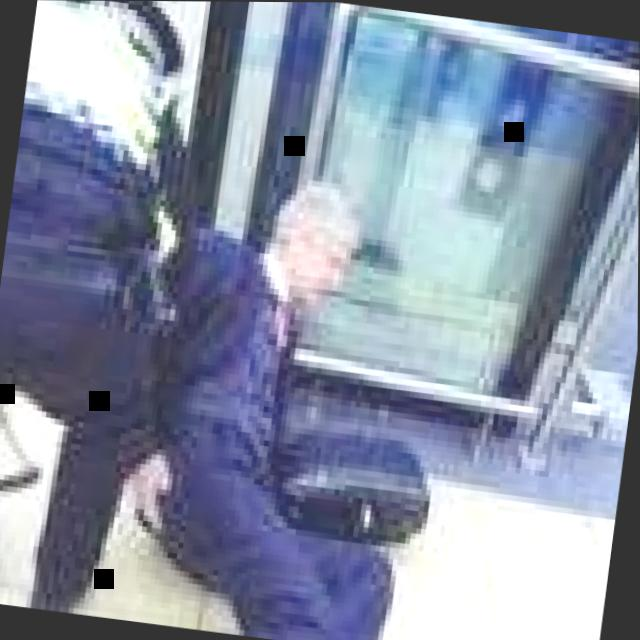Fall-Detected: (107, 138, 519, 640)
